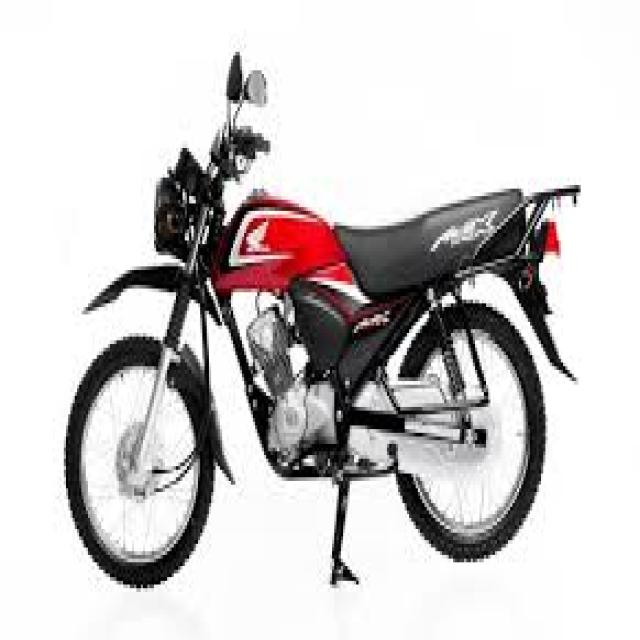bodaboda: (32, 34, 604, 618)
